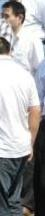boots: (0, 166, 7, 179), (0, 131, 11, 139)
